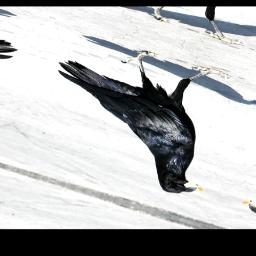Crow: (25, 25, 245, 202)
